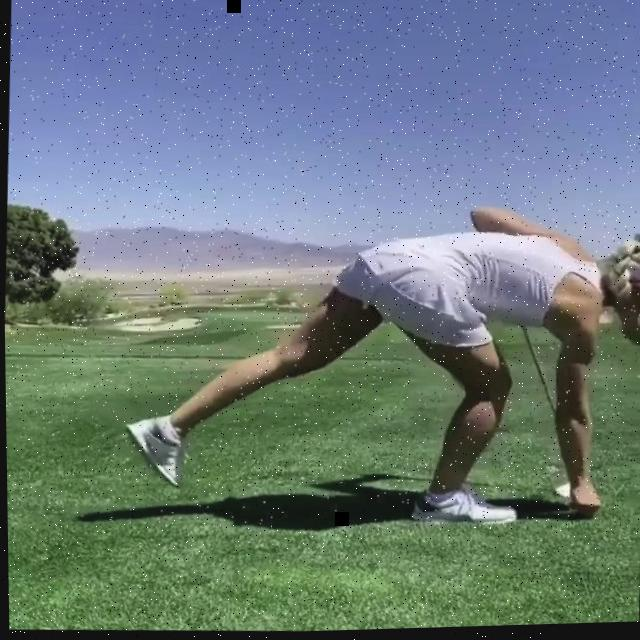ClubHead: (538, 485, 580, 506)
